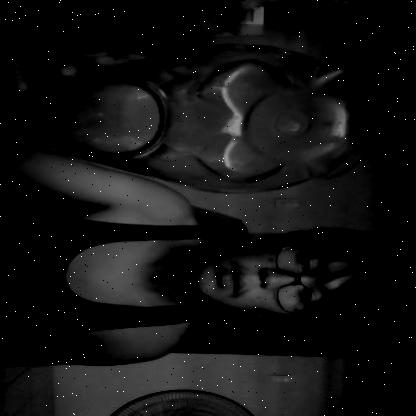Plastic Bottle: (13, 41, 373, 197)
